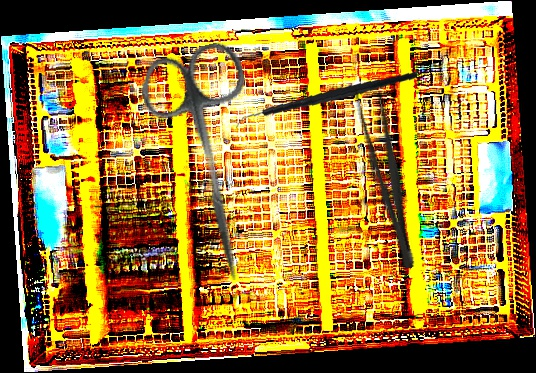Chopper: (235, 53, 418, 149)
Dressing Forceps: (348, 79, 425, 272)
Iris Scissors: (134, 38, 289, 291)
